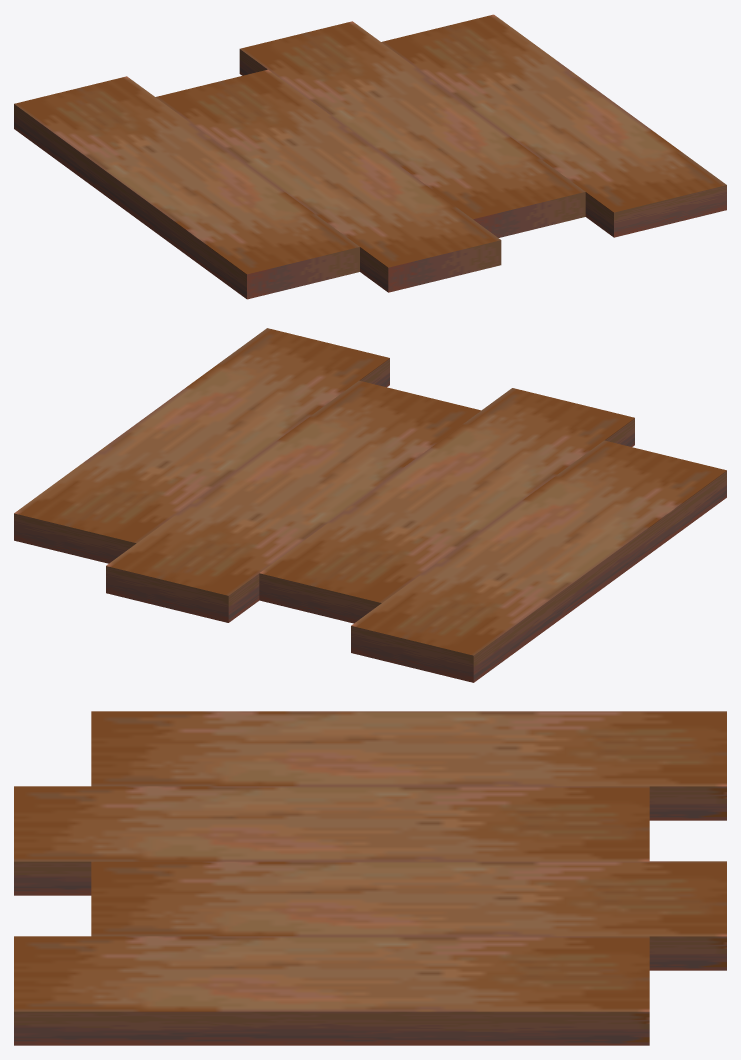
The model's file is Bridge.fbx.
3 renders of one model, top to bottom at view 1: azimuth 30°, elevation 25°; view 2: azimuth 150°, elevation 25°; view 3: azimuth 270°, elevation 25°, orthographic. The views are drawn at different scales.
Parts seen in each view (by area): view 1: Cube; view 2: Cube; view 3: Cube.
Part boxes in pixels (x1,y1,x2,y2): Cube: (14,14,726,299); Cube: (14,328,726,682); Cube: (14,711,726,1045).
Size of the model in its own units: 272 by 14.45 by 273.
